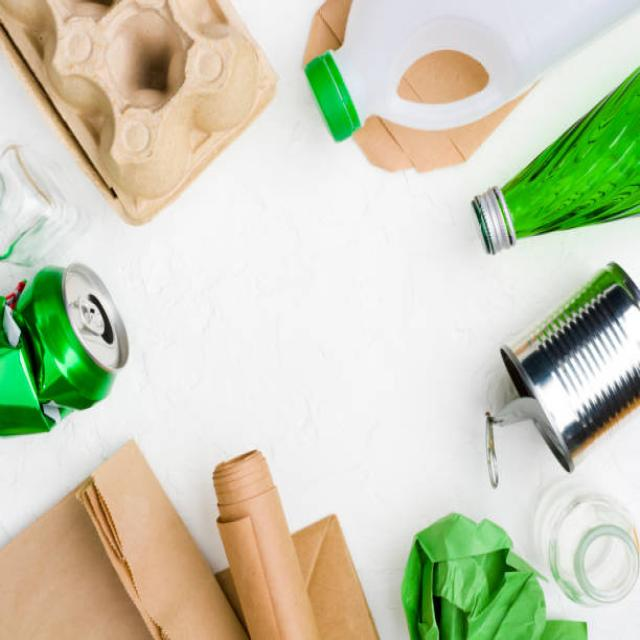cardboard: (29, 13, 271, 172)
metal: (540, 268, 628, 469), (1, 273, 146, 382)
paper: (1, 438, 384, 632)
